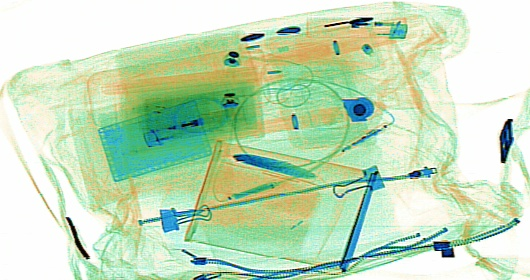lighter: (139, 104, 248, 147), (305, 14, 408, 40)
